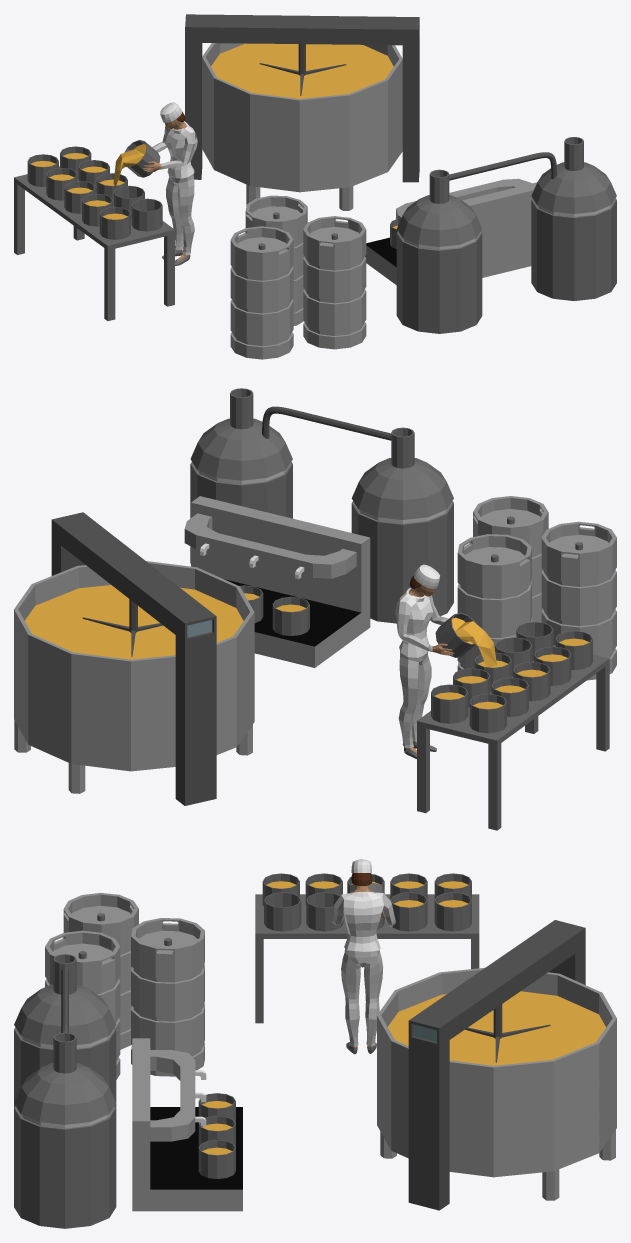
Rendered from FIRC.glb.
The picture shows the model from 3 angles, top to bottom: view 1: azimuth 30°, elevation 25°; view 2: azimuth 150°, elevation 25°; view 3: azimuth 270°, elevation 25°; orthographic projection. The views are drawn at different scales.
Visible parts, largest first — view 1: FIRC; view 2: FIRC; view 3: FIRC.
Part boxes in pixels (<box>): FIRC: <box>14,14,616,359</box>; FIRC: <box>14,388,616,830</box>; FIRC: <box>14,859,616,1228</box>.
Size of the model in its own units: 1436 by 511 by 1480.
1 material, 1 textured.
